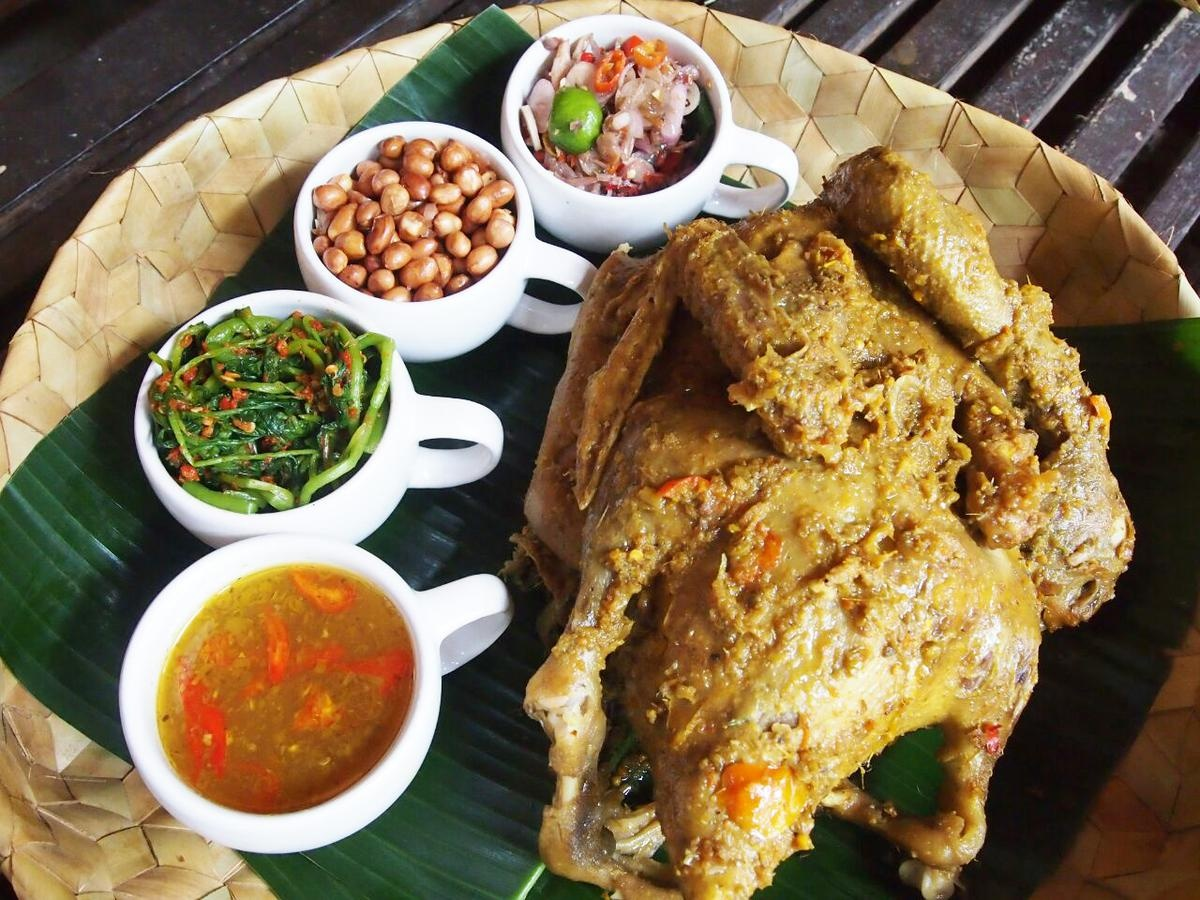ayam_betutu: (524, 152, 1138, 900)
